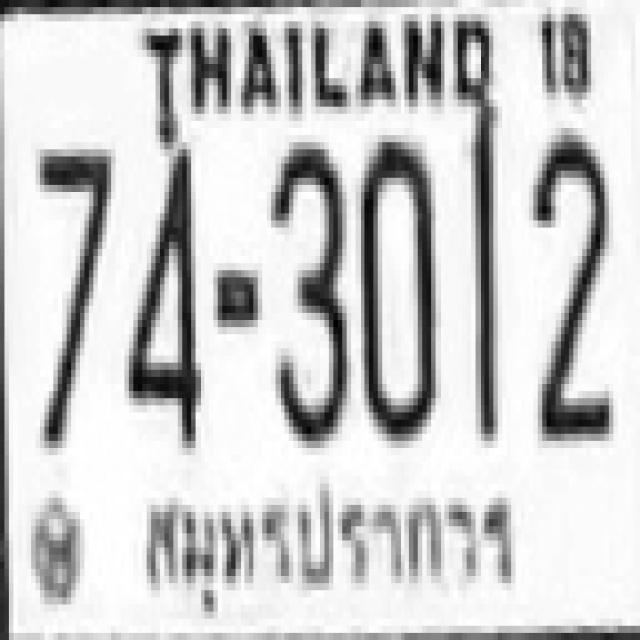0: (356, 135, 436, 434)
2: (531, 128, 611, 434), (526, 128, 606, 427)
3: (266, 135, 346, 441)
4: (122, 135, 198, 441)
7: (36, 142, 111, 441)
SamutPrakan: (128, 479, 522, 598)
